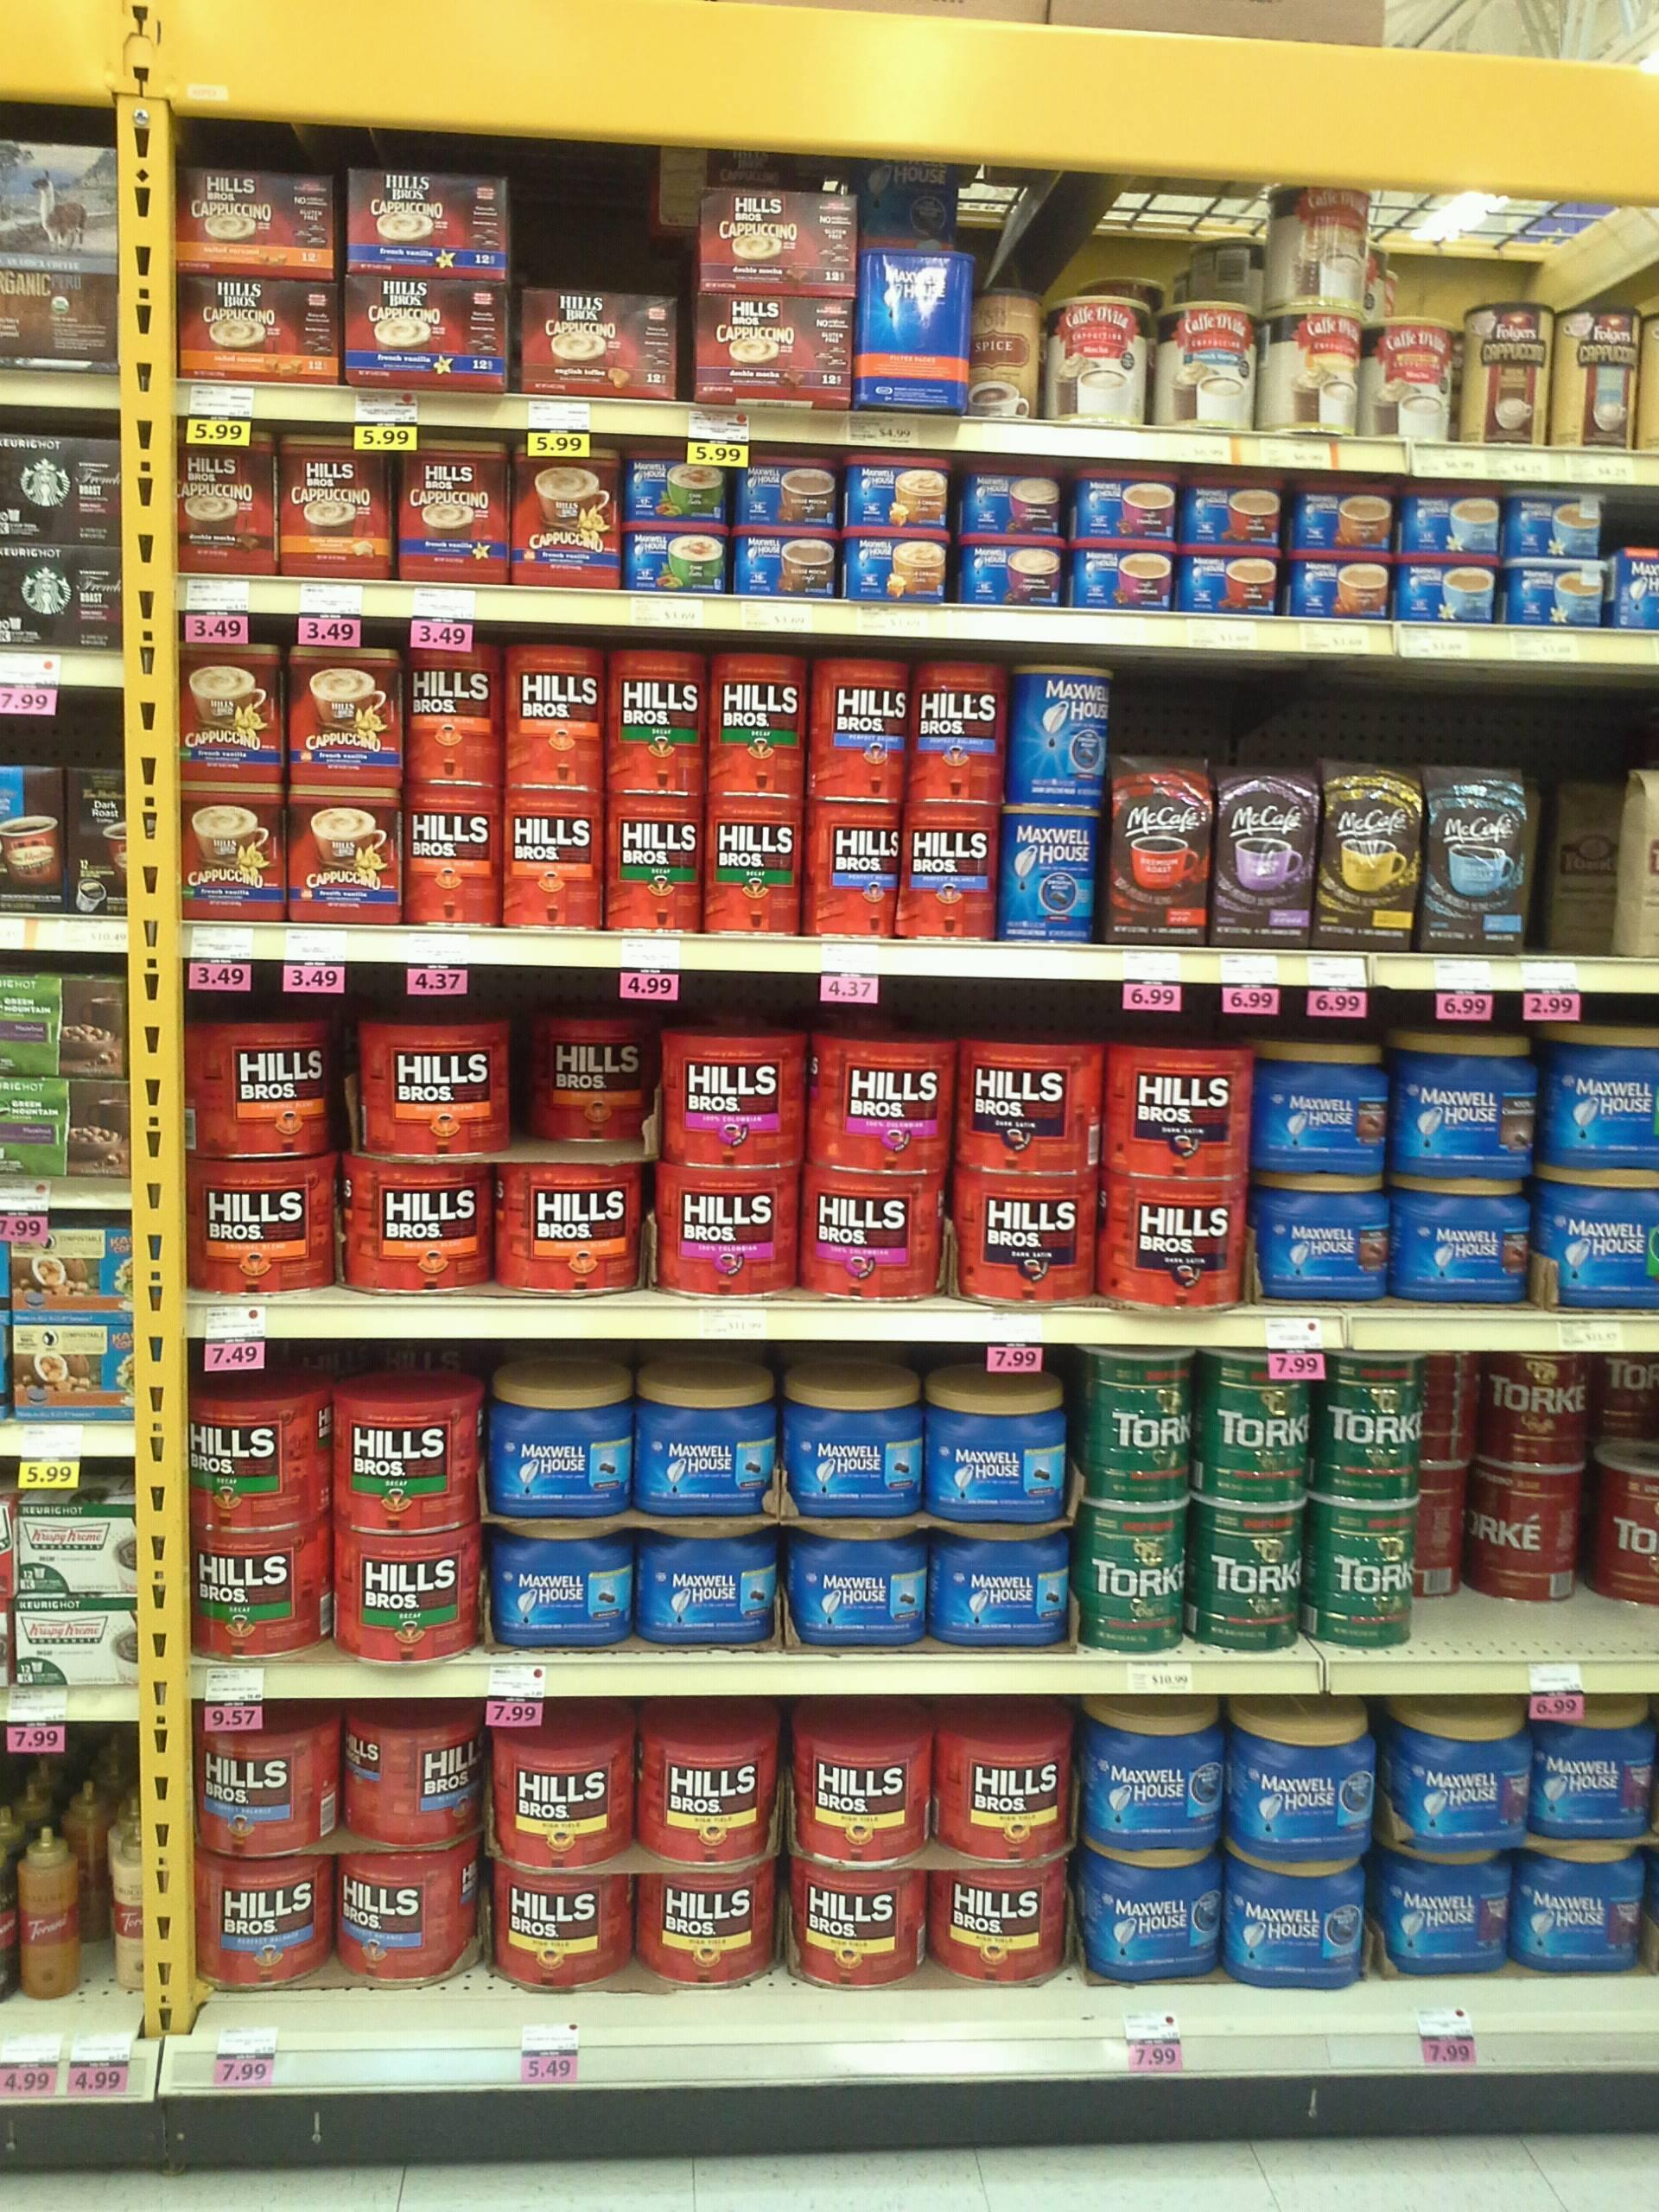empty: (1415, 1496, 1659, 1653), (505, 169, 694, 298), (1535, 761, 1617, 951)
